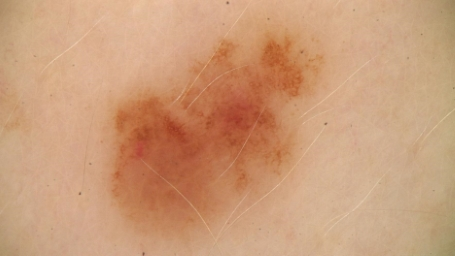seborrheic keratosis: (113, 35, 330, 241)
